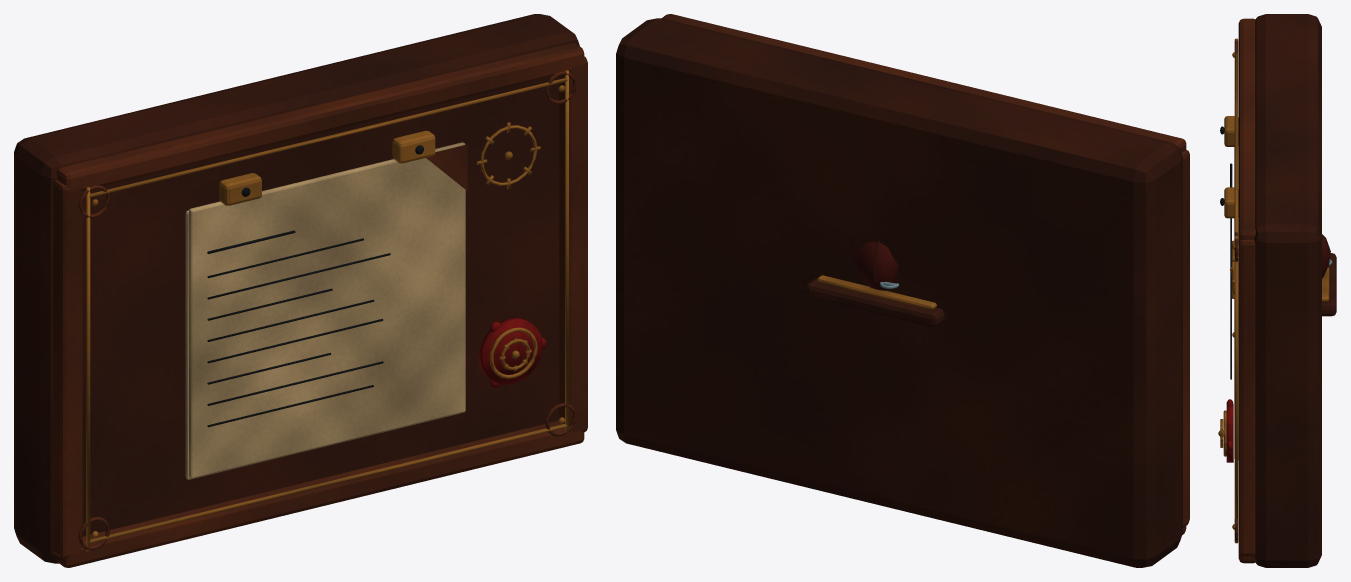
Rendered from commission-kit.glb.
3 views of the same model, side by side, from view 1: azimuth 30°, elevation 25°; view 2: azimuth 150°, elevation 25°; view 3: azimuth 270°, elevation 25° (orthographic). The views are drawn at different scales.
Visible parts, largest first — view 1: CommissionLedger_Visual, CommissionPaperPivot_Visual, CommissionStamp_Visual; view 2: CommissionLedger_Visual, ReturnSpring1_Visual, CommissionPurse_Visual; view 3: CommissionLedger_Visual, CommissionPaperPivot_Visual, ReturnSpring1_Visual, CommissionStamp_Visual, CommissionPurse_Visual.
Part boxes in pixels (x1,y1,x2,y2): CommissionLedger_Visual: (14,14,587,567); CommissionPaperPivot_Visual: (189,142,467,478); CommissionStamp_Visual: (479,317,546,387); CommissionLedger_Visual: (616,14,1189,567); ReturnSpring1_Visual: (806,275,944,327); CommissionPurse_Visual: (850,240,898,290); CommissionLedger_Visual: (1220,14,1321,567); CommissionPaperPivot_Visual: (1230,146,1238,459); ReturnSpring1_Visual: (1322,253,1336,316); CommissionStamp_Visual: (1218,399,1233,462); CommissionPurse_Visual: (1322,234,1330,278).
Size of the model in its own units: 0.9 by 0.65 by 0.203.
Materials: 8 (8 with a texture image).
